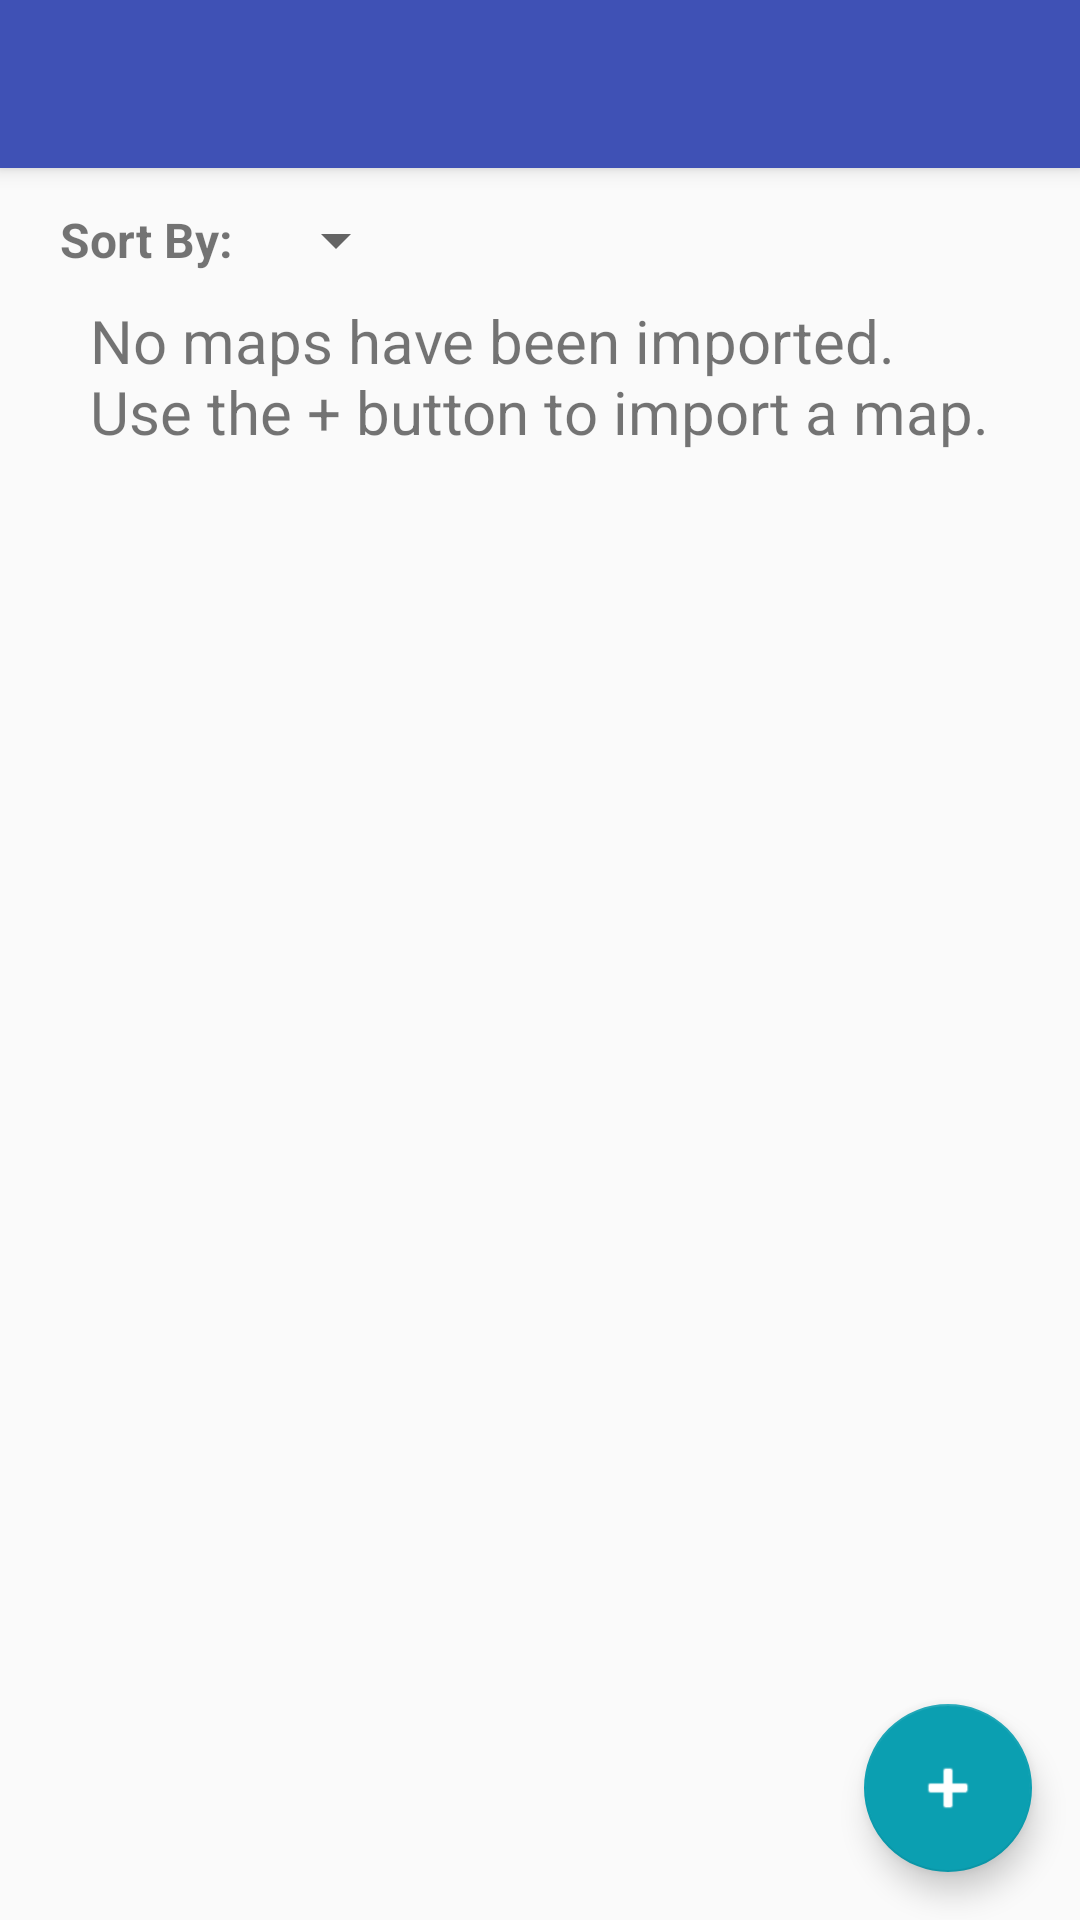

Icons on this 1080×1920 Android screen, each with its box as (x1, y1, x2, y2):
Import or download PDF maps: (864, 1704, 1032, 1872)
